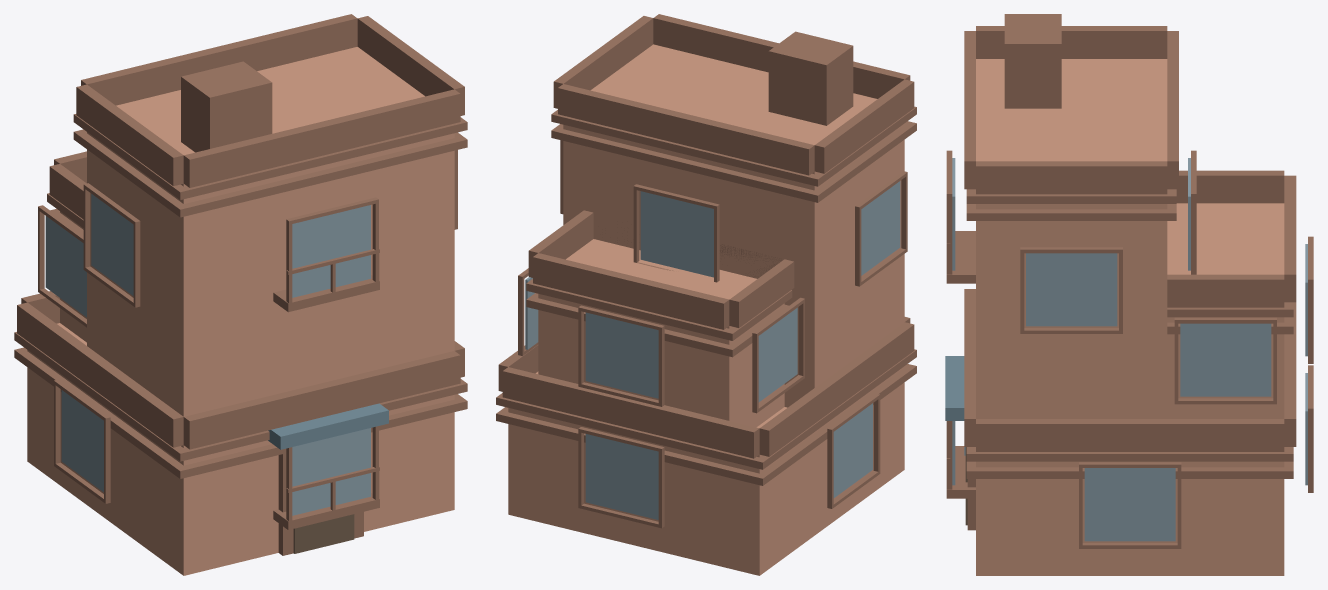
The model's file is residential_1x1_court.glb.
3 renders of one model, left to right at view 1: azimuth 30°, elevation 25°; view 2: azimuth 150°, elevation 25°; view 3: azimuth 270°, elevation 25°, orthographic. The views are drawn at different scales.
Visible parts, largest first — view 1: residential_1x1_court_0; view 2: residential_1x1_court_0; view 3: residential_1x1_court_0.
Part boxes in pixels (box(x1,y1,x2,y2)): residential_1x1_court_0: box(14, 14, 467, 575); residential_1x1_court_0: box(496, 14, 916, 575); residential_1x1_court_0: box(945, 14, 1313, 575).
Size of the model in its own units: 7.74 by 10.5 by 7.77.
